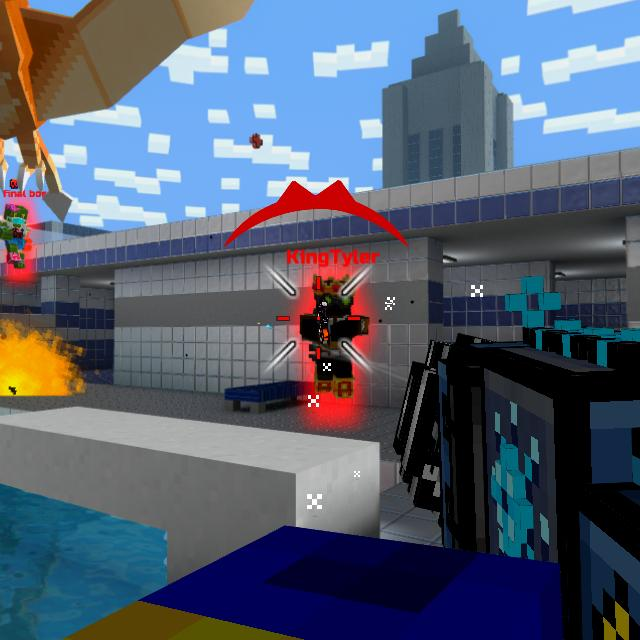Enemy: (302, 279, 372, 402), (1, 206, 32, 271)
